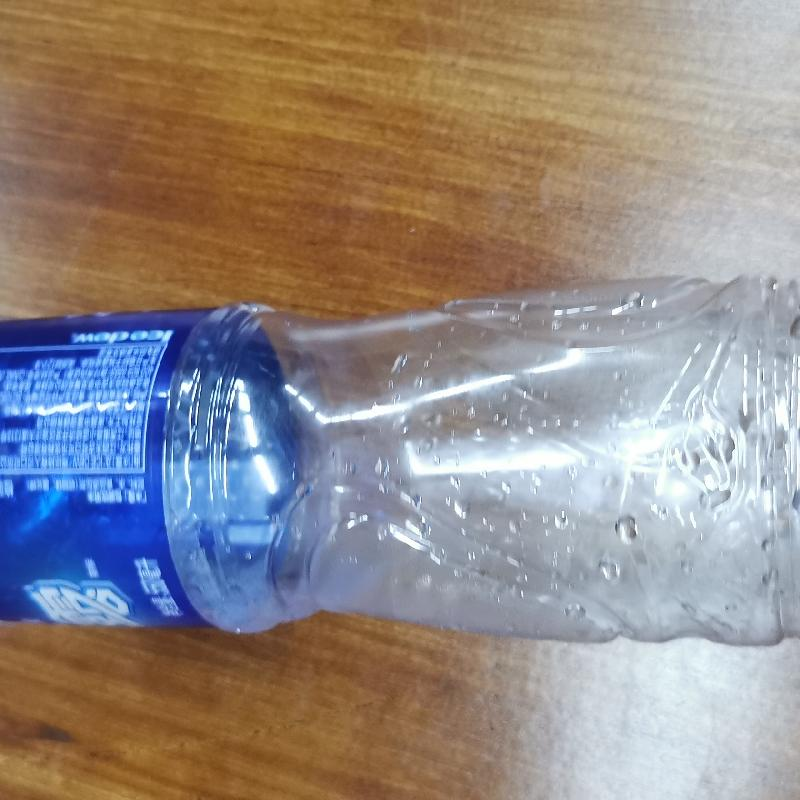bottles: (4, 272, 799, 650)
